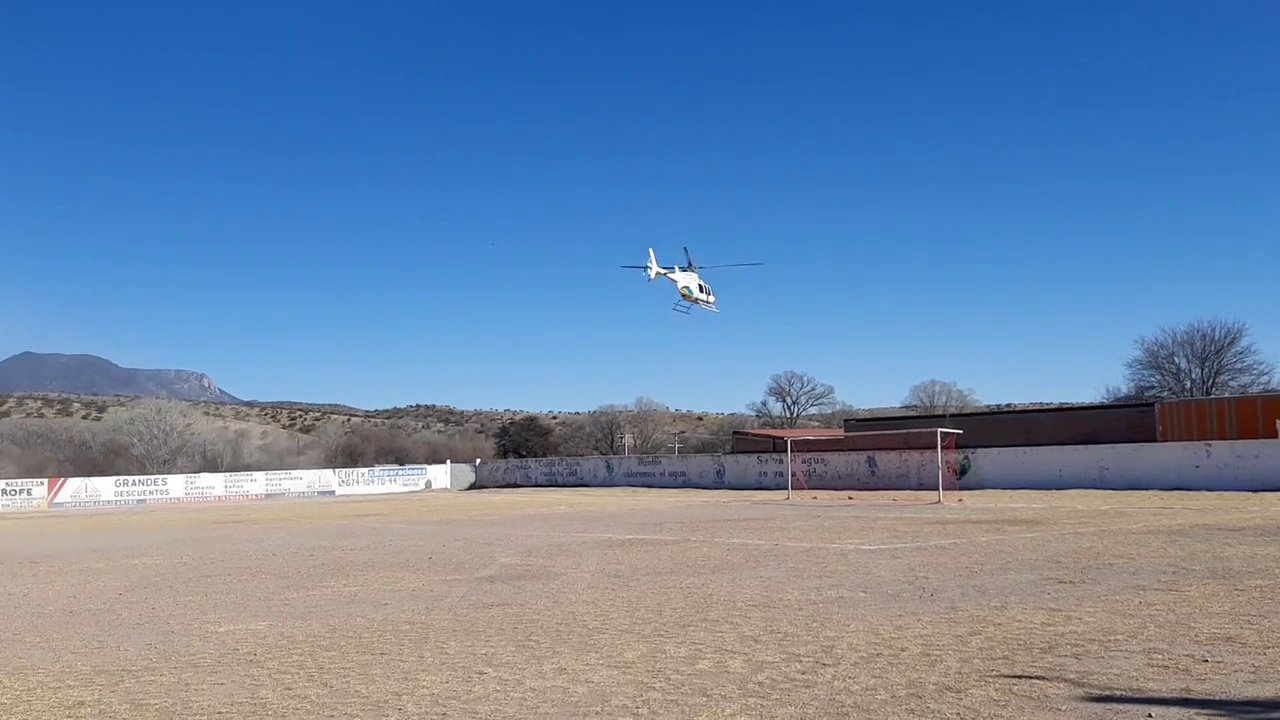heli: (621, 246, 762, 313)
